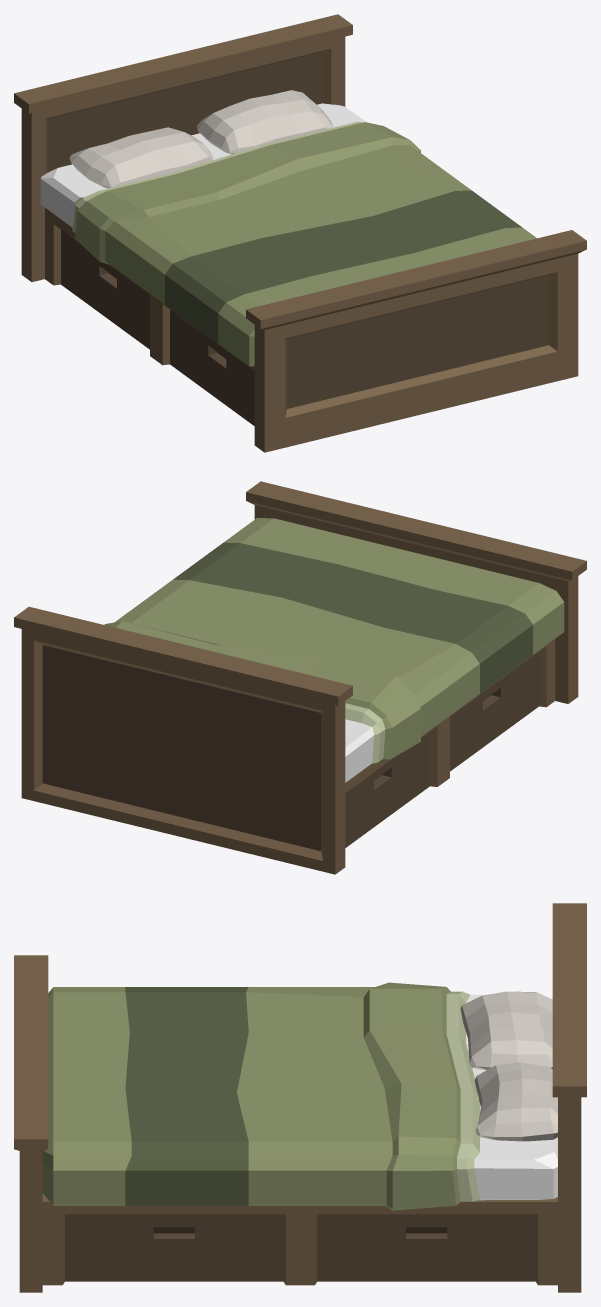
Rendered from Bed.fbx.
3 views of the same model, one above another, from view 1: azimuth 30°, elevation 25°; view 2: azimuth 150°, elevation 25°; view 3: azimuth 270°, elevation 25° (orthographic). The views are drawn at different scales.
Visible parts, largest first — view 1: Bed; view 2: Bed; view 3: Bed.
Boxes of the visible parts, x1,y1,x2,y2 form: Bed: (14, 14, 586, 452); Bed: (14, 481, 586, 874); Bed: (14, 903, 586, 1292).
Bounding box in the file's own units: 217 × 115 × 285.
Materials: 1 (1 with a texture image).
